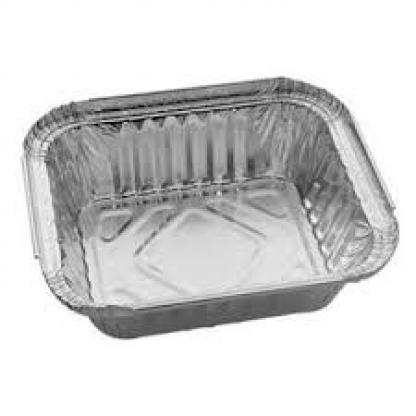Compsot: (20, 74, 398, 333)
